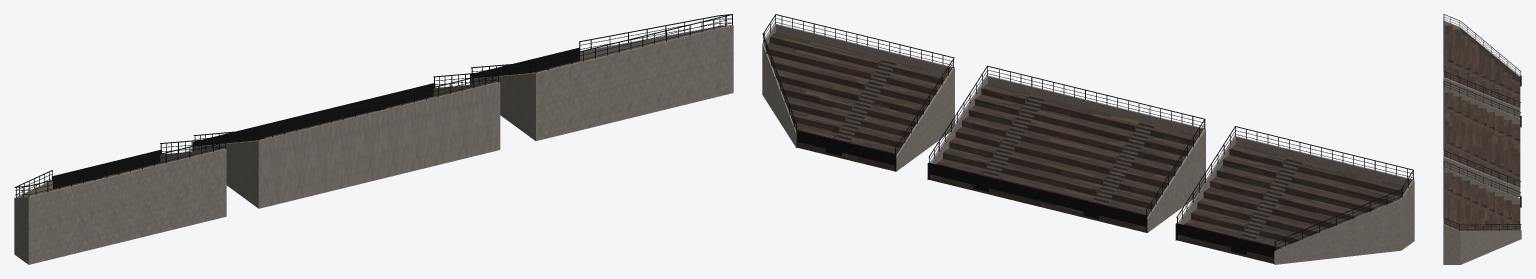
The model's file is Stand_C.FBX.
The picture shows the model from 3 angles, left to right: view 1: azimuth 30°, elevation 25°; view 2: azimuth 150°, elevation 25°; view 3: azimuth 270°, elevation 25°; orthographic projection. The views are drawn at different scales.
Parts seen in each view (by area): view 1: Stand_C_Wall, Stand_C_Railing, Stand_C_Step_Floor; view 2: Stand_C_Step_Floor, Stand_C_Wall, Stand_C_Steps, Stand_C_Railing; view 3: Stand_C_Step_Floor, Stand_C_Wall, Stand_C_Railing, Stand_C_Steps.
Boxes of the visible parts, x1,y1,x2,y2 form: Stand_C_Wall: (14,25,733,264); Stand_C_Railing: (14,14,732,197); Stand_C_Step_Floor: (38,47,637,193); Stand_C_Step_Floor: (765,32,1407,263); Stand_C_Wall: (762,24,1414,264); Stand_C_Steps: (826,58,1303,257); Stand_C_Railing: (762,14,1413,250); Stand_C_Step_Floor: (1444,25,1520,230); Stand_C_Wall: (1443,20,1521,264); Stand_C_Railing: (1443,14,1521,230); Stand_C_Steps: (1444,60,1520,225).
Size of the model in its own units: 56268 by 6009 by 9085.
